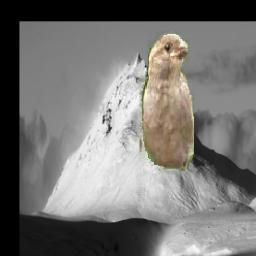Sparrow: (140, 32, 195, 202)
